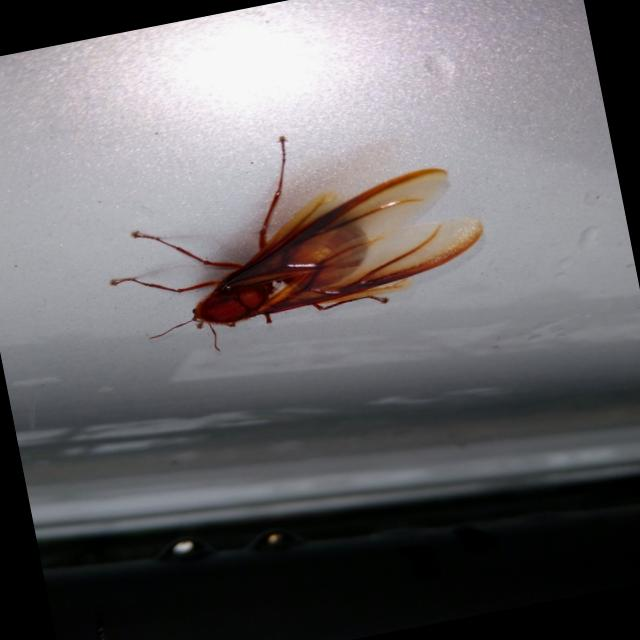Alive-Male-Alate: (88, 100, 498, 370)
